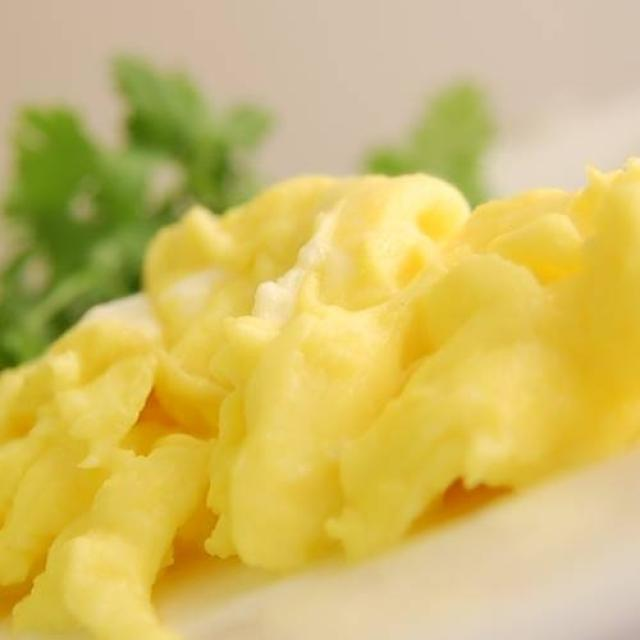鸡蛋料理: (18, 23, 631, 608)
